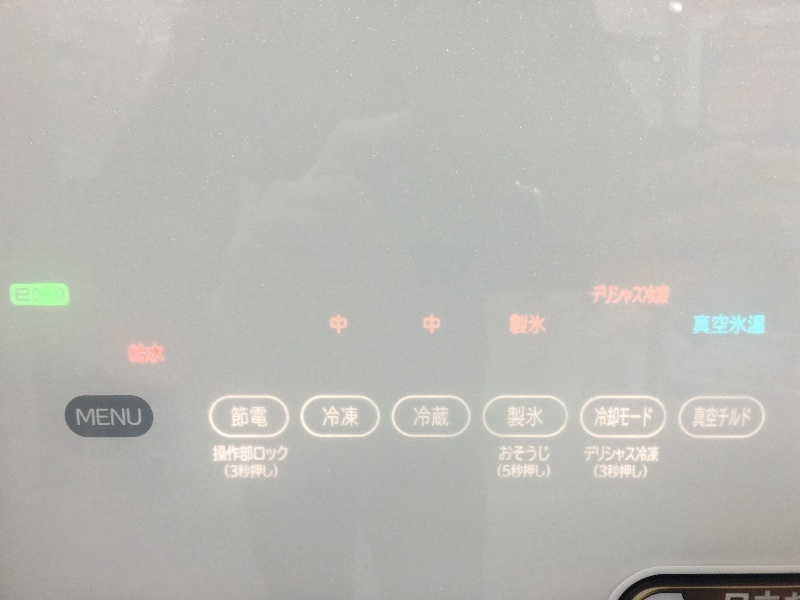text: (705, 407, 720, 429), (721, 407, 736, 429), (433, 407, 449, 427), (129, 344, 144, 365), (145, 344, 160, 365), (241, 407, 256, 428), (337, 406, 352, 427), (513, 407, 528, 428), (737, 407, 751, 429), (513, 315, 528, 335), (529, 315, 544, 335), (705, 315, 720, 335), (721, 315, 736, 335), (737, 315, 752, 335), (417, 407, 432, 427), (609, 407, 624, 427), (625, 407, 640, 427), (322, 406, 336, 427), (529, 407, 543, 428), (593, 286, 608, 305), (609, 286, 624, 305), (625, 286, 640, 305), (641, 286, 656, 305), (81, 409, 96, 427), (97, 409, 112, 427), (113, 409, 128, 427), (225, 445, 240, 463), (241, 445, 256, 463), (257, 445, 272, 463), (595, 407, 608, 427), (593, 446, 608, 463), (609, 446, 624, 463), (625, 446, 640, 463), (641, 446, 656, 463), (273, 445, 287, 463), (753, 315, 765, 335), (129, 409, 142, 427), (657, 286, 669, 305), (225, 464, 240, 479), (241, 464, 256, 479), (257, 464, 272, 479), (513, 446, 528, 461), (529, 446, 544, 461), (513, 464, 528, 479), (529, 464, 544, 479), (641, 407, 652, 427), (694, 407, 704, 429), (257, 407, 267, 428), (498, 464, 512, 479), (609, 465, 624, 479), (625, 465, 640, 479), (337, 314, 347, 334), (694, 315, 704, 335), (213, 445, 224, 463), (594, 465, 608, 479), (17, 291, 32, 304), (231, 407, 240, 428), (500, 446, 512, 461), (424, 315, 432, 334), (433, 315, 440, 334), (330, 314, 336, 334), (585, 446, 592, 463), (353, 406, 358, 427), (507, 407, 512, 428), (75, 409, 80, 427), (161, 344, 165, 365), (641, 465, 647, 479), (273, 464, 278, 479), (545, 446, 550, 461), (545, 464, 550, 479), (413, 407, 416, 427), (510, 315, 512, 335), (657, 446, 659, 463), (545, 315, 546, 335), (15, 291, 16, 304)
